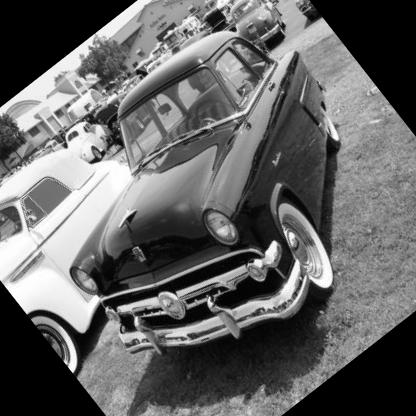car: (1, 1, 416, 416), (1, 125, 193, 366), (59, 108, 122, 175), (218, 1, 294, 56)
